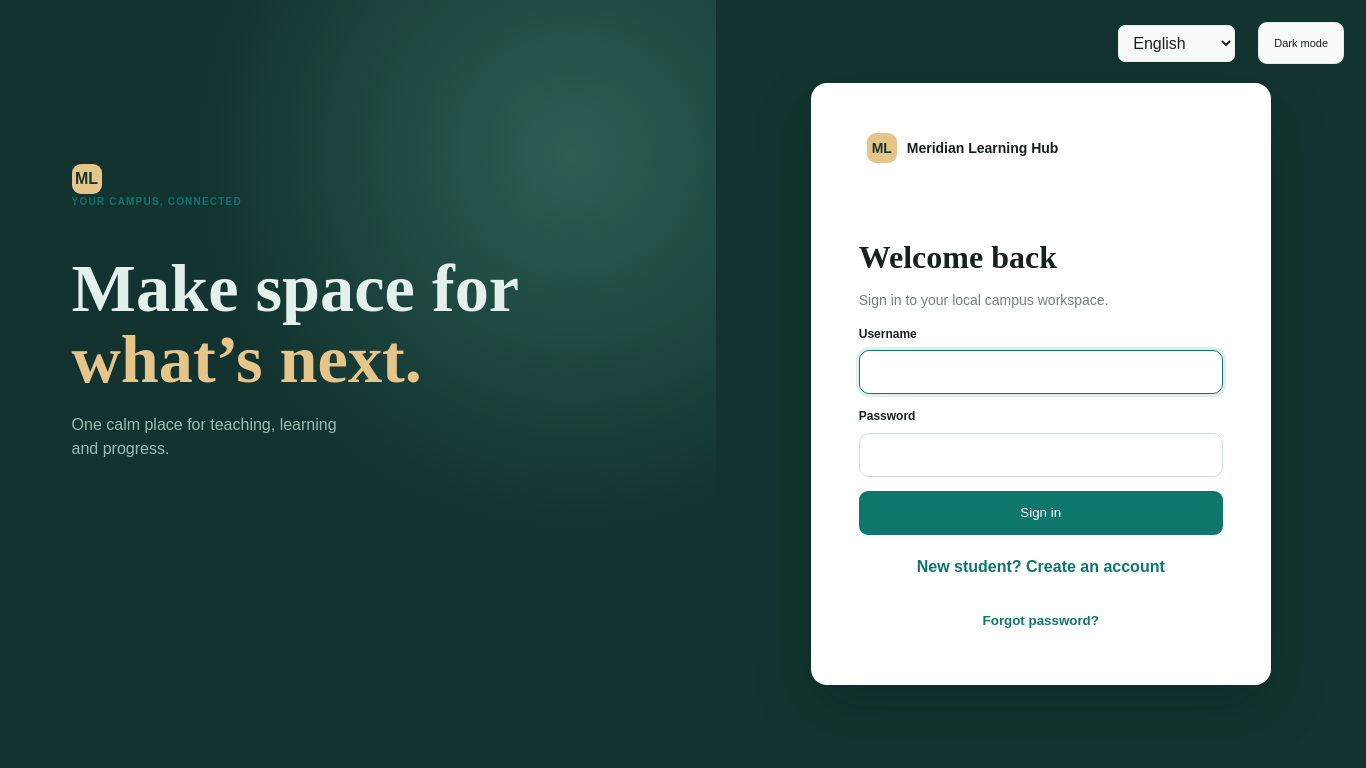
Test case: hides the assignment brief download once the assignment is closed
Expected: the heading "Welcome back" is shown, [859,240,1057,276]
Type "student" into the field labelled "Username" at (1041, 372), box [859,350,1223,394]
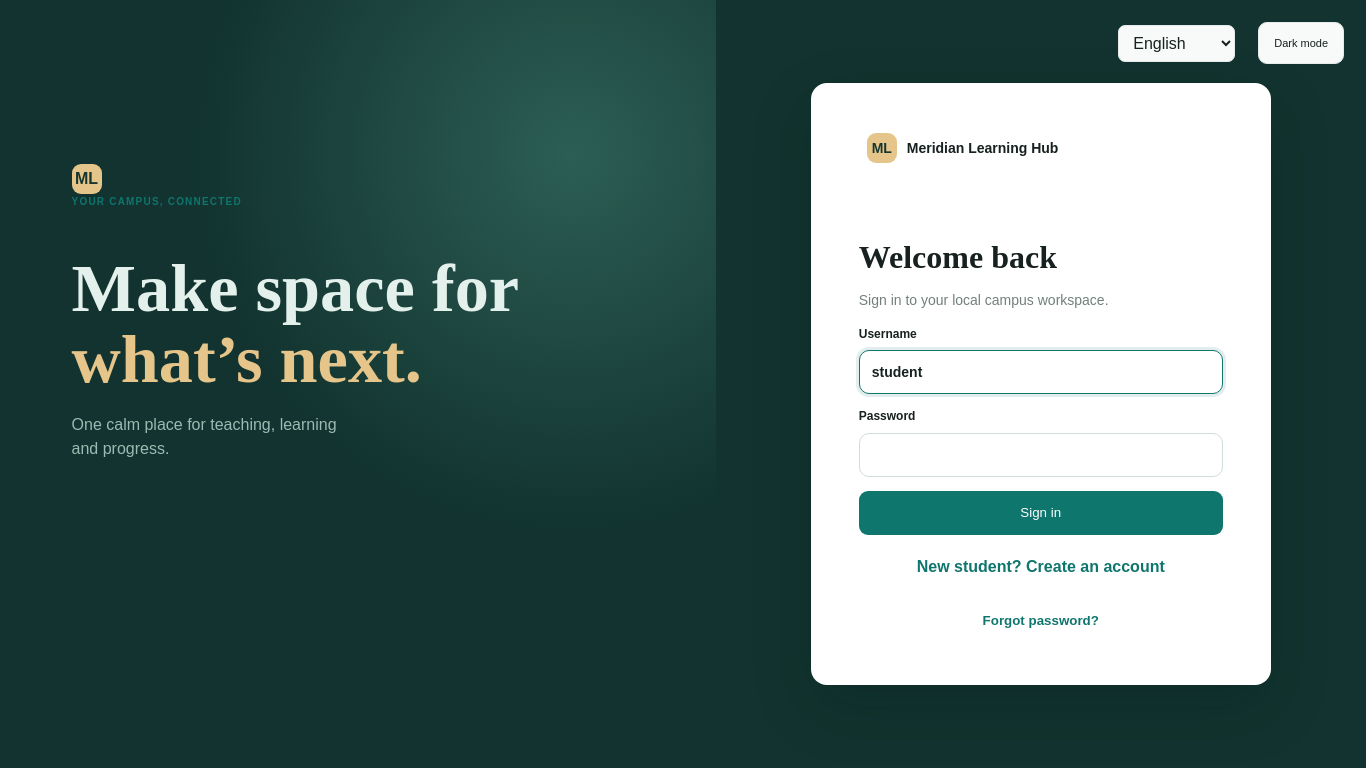
Type "Student123!" into the password field labelled "Password" at (1041, 454), box [859,432,1223,476]
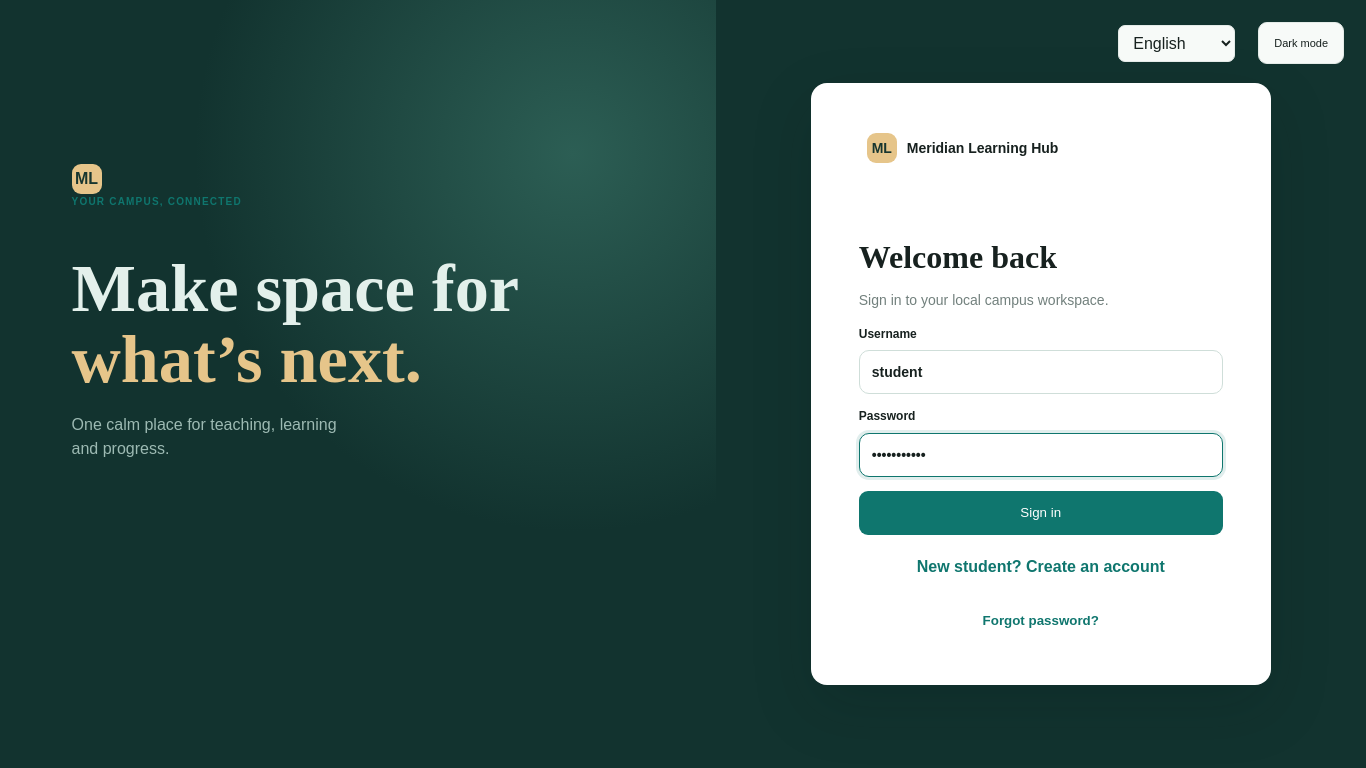
Click the button "Sign in" at (1041, 512), box [859,490,1223,534]
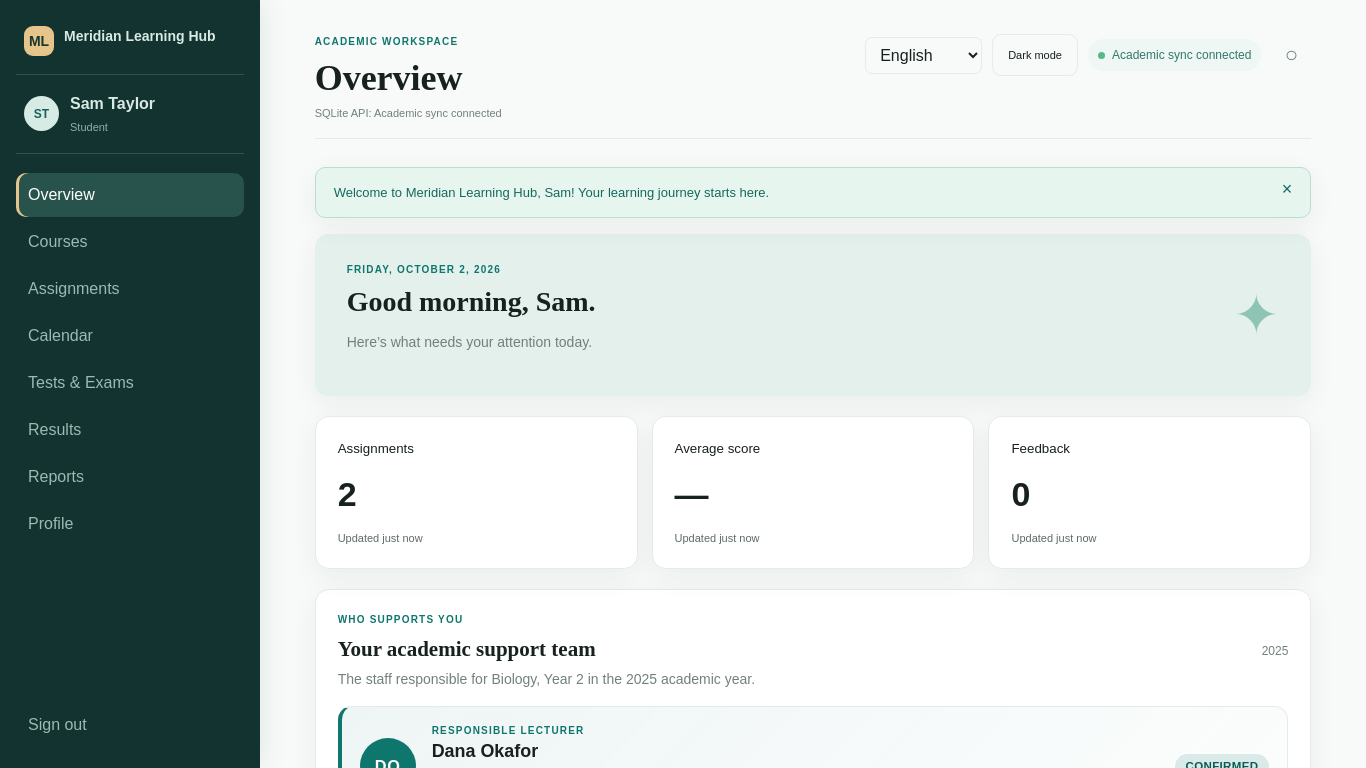
Now the heading "Good morning, Sam." is shown, box [347,286,596,318]
Click the button "Assignments" at (130, 288), box [16,266,244,310]
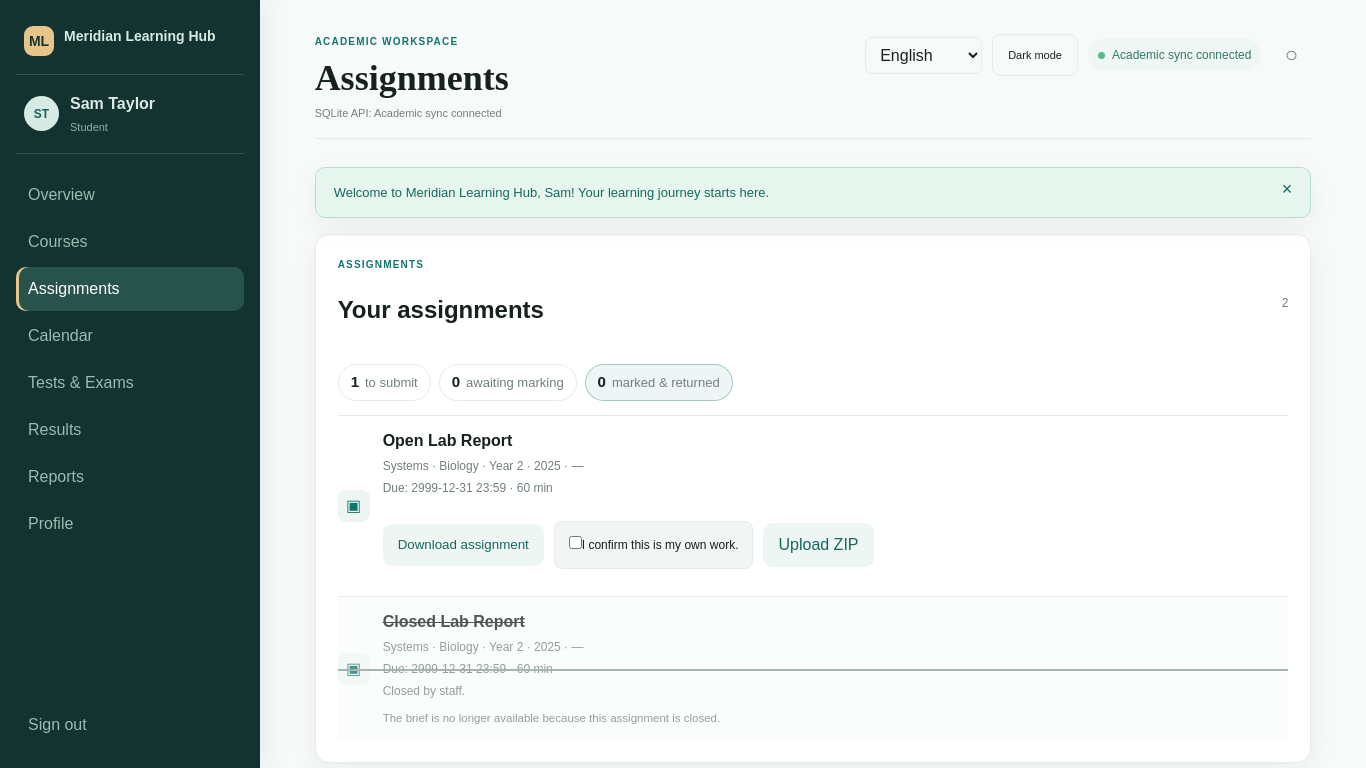
Now the button "Download assignment" is shown, box [383,524,544,566]
Now the text "no longer available because this assignment is closed" is shown, box [383,712,720,724]
Now the file field "Upload ZIP" is shown, box [764,523,874,567]
